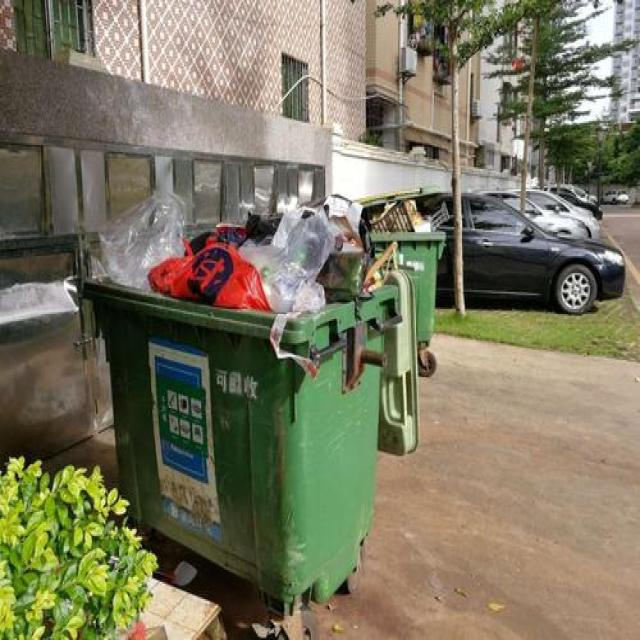overflow: (80, 191, 400, 608), (362, 186, 446, 343)
